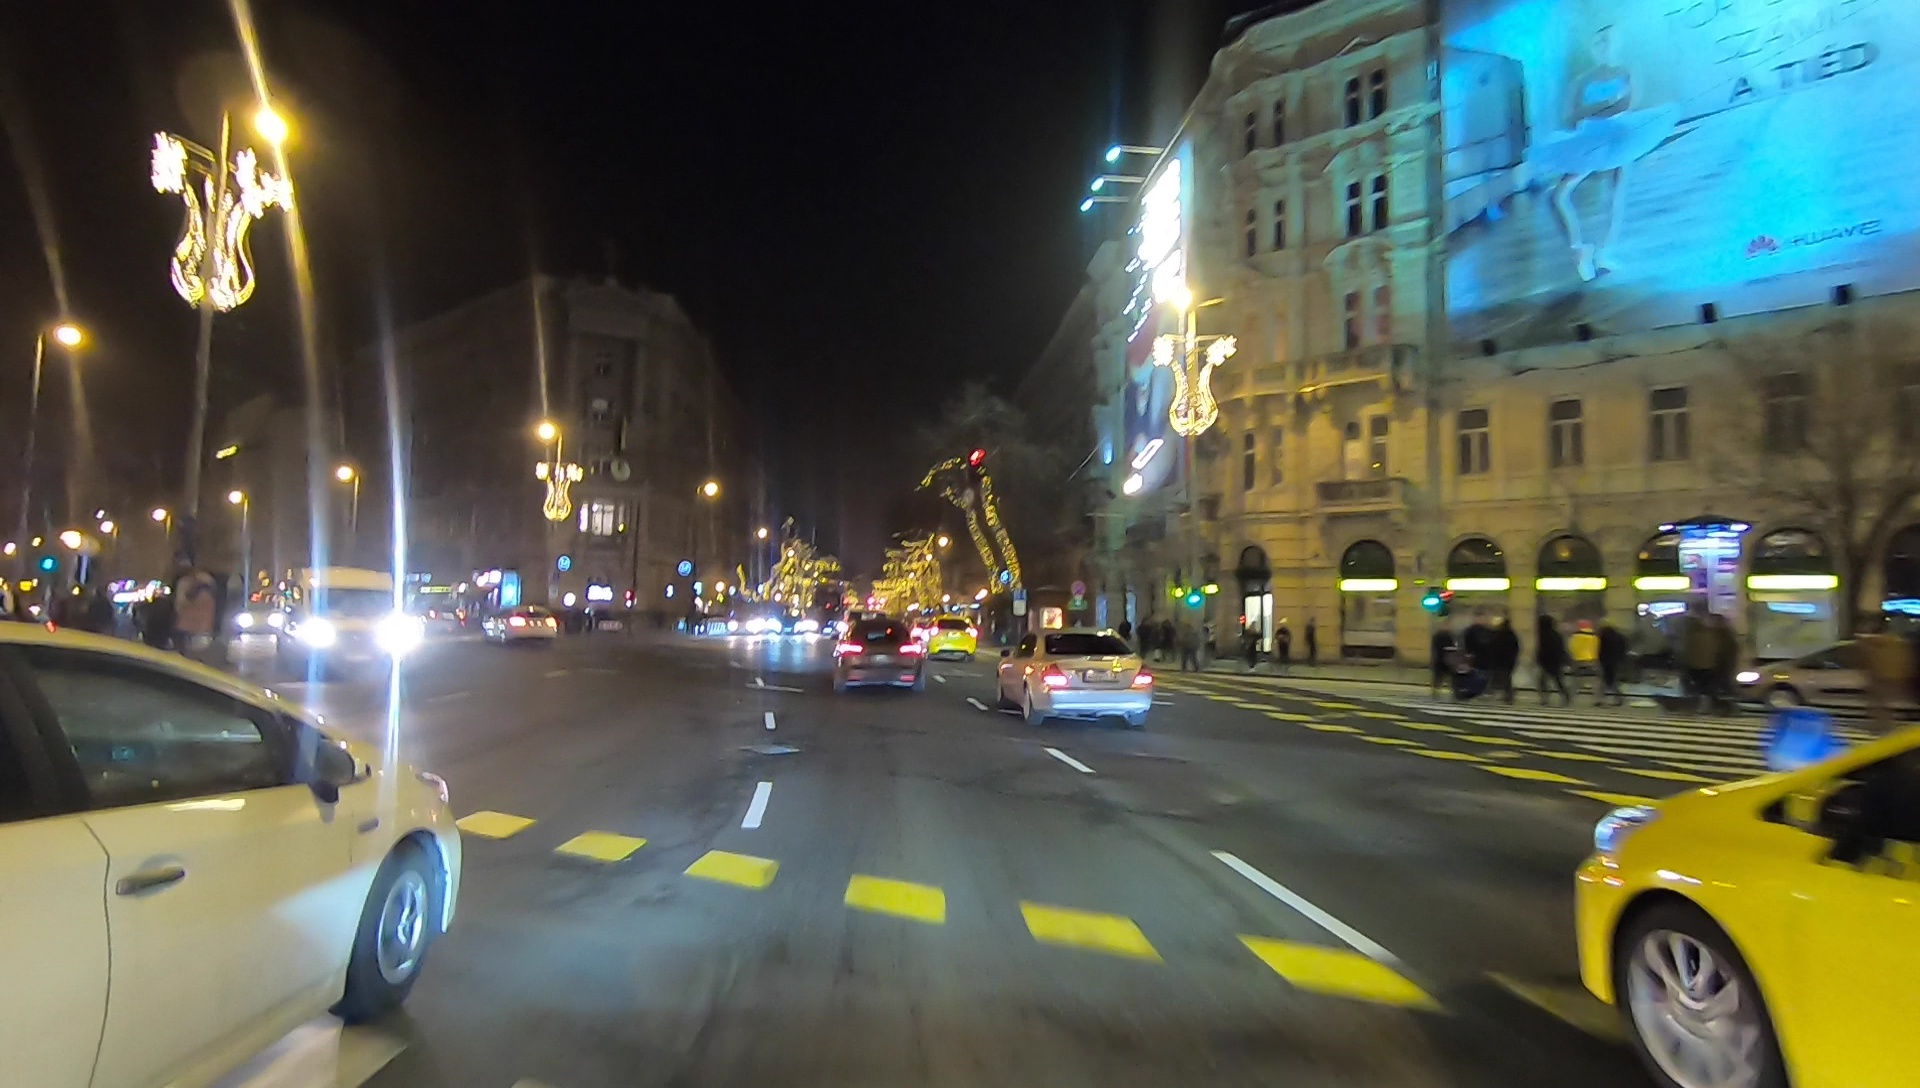person: (1665, 604, 1715, 717), (1534, 613, 1569, 704), (1488, 613, 1521, 702), (1599, 617, 1625, 704), (1464, 617, 1488, 704), (1428, 623, 1454, 700), (1180, 619, 1199, 673), (1271, 621, 1289, 663)
